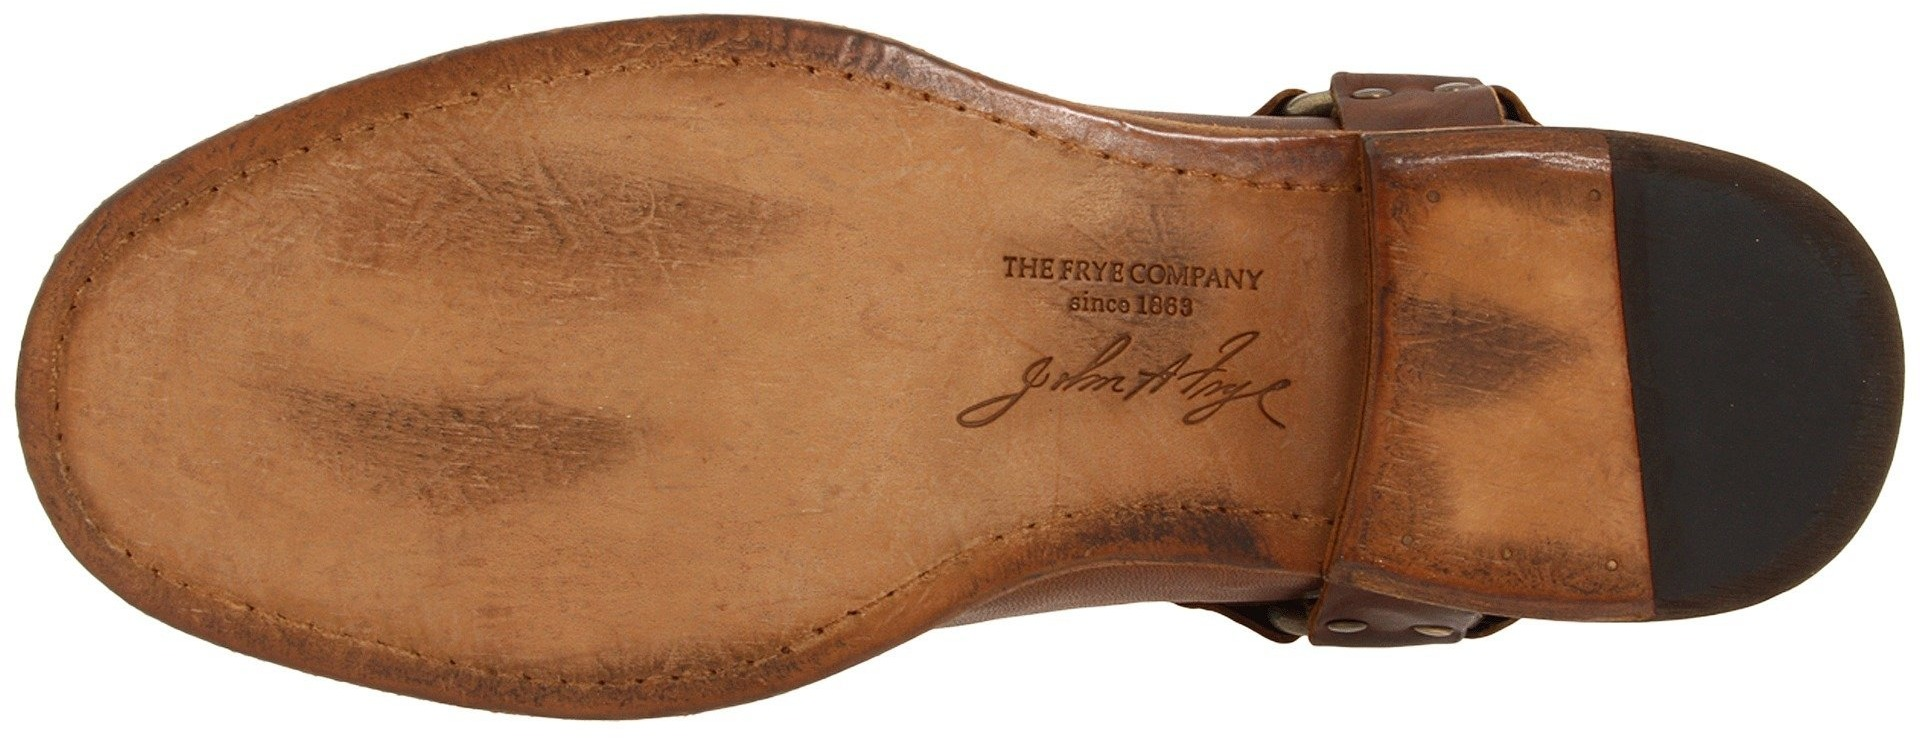circle: (1010, 223, 1296, 470)
exclude: (1123, 31, 1615, 140)
other: (464, 99, 973, 557), (115, 231, 478, 557), (599, 312, 880, 594), (1642, 211, 1896, 471)
text: (1010, 223, 1296, 470)
